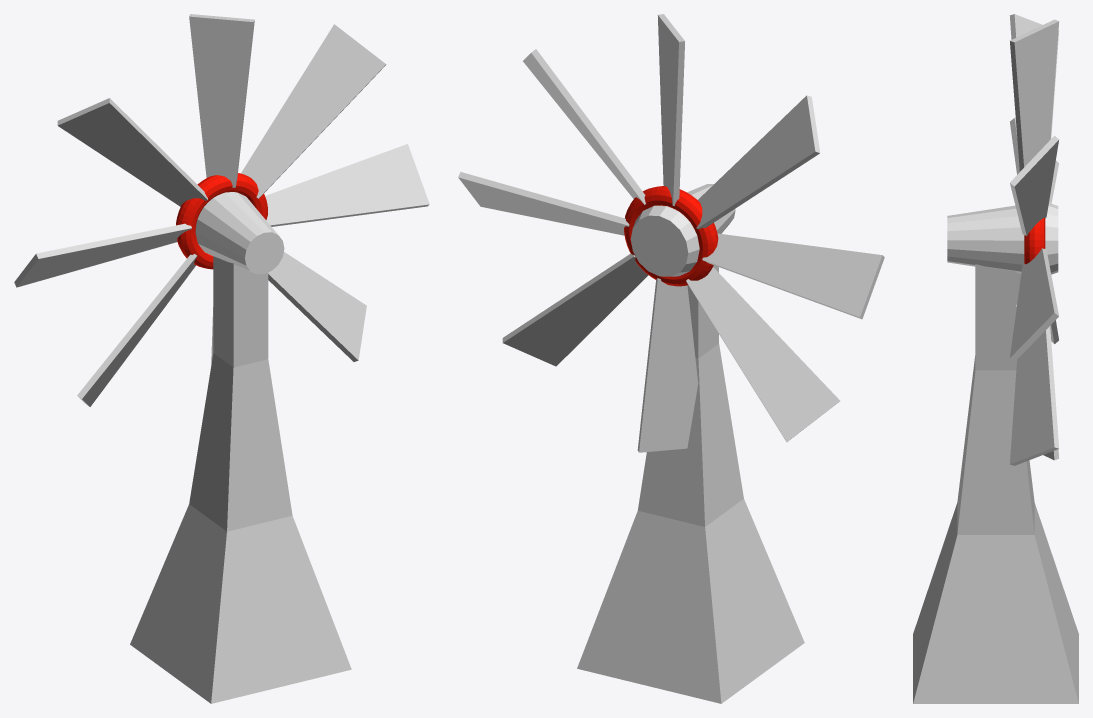
Rendered from WindTurbine.glb.
3 renders of one model, left to right at view 1: azimuth 30°, elevation 25°; view 2: azimuth 150°, elevation 25°; view 3: azimuth 270°, elevation 25°, orthographic. The views are drawn at different scales.
Parts seen in each view (by area): view 1: Cube, Cube.006, Cube.002, Cube.004, Cube.007, Cylinder, Cube.008, Cube.003, Cube.005, Torus; view 2: Cube, Cube.005, Cube.003, Cube.001, Cube.008, Cube.007, Cylinder, Cube.004, Cube.002, Torus, Cube.006; view 3: Cube, Cube.002, Cylinder, Cube.008, Cube.004, Cube.006, Torus, Cube.007, Cube.003.
Part boxes in pixels (left/top/right/bottom): Cube: left=130, top=256, right=351, bottom=703; Cube.006: left=241, top=24, right=386, bottom=198; Cube.002: left=189, top=14, right=254, bottom=187; Cube.004: left=265, top=144, right=429, bottom=226; Cube.007: left=57, top=98, right=207, bottom=206; Cylinder: left=195, top=192, right=284, bottom=274; Cube.008: left=268, top=252, right=366, bottom=361; Cube.003: left=14, top=223, right=191, bottom=287; Cube.005: left=77, top=254, right=197, bottom=406; Torus: left=176, top=173, right=267, bottom=269; Cube: left=577, top=265, right=804, bottom=703; Cube.005: left=686, top=267, right=839, bottom=441; Cube.003: left=702, top=233, right=884, bottom=319; Cube.001: left=637, top=278, right=698, bottom=452; Cube.008: left=502, top=253, right=648, bottom=366; Cube.007: left=696, top=95, right=820, bottom=228; Cylinder: left=630, top=184, right=735, bottom=276; Cube.004: left=458, top=172, right=629, bottom=235; Cube.002: left=657, top=14, right=684, bottom=205; Torus: left=624, top=186, right=718, bottom=286; Cube.006: left=523, top=49, right=645, bottom=204; Cube: left=913, top=264, right=1078, bottom=703; Cube.002: left=1010, top=19, right=1059, bottom=171; Cylinder: left=947, top=203, right=1058, bottom=274; Cube.008: left=1010, top=326, right=1059, bottom=465; Cube.004: left=1010, top=248, right=1058, bottom=361; Cube.006: left=1010, top=135, right=1059, bottom=235; Torus: left=1024, top=218, right=1045, bottom=264; Cube.007: left=1009, top=14, right=1059, bottom=138; Cube.003: left=1010, top=118, right=1058, bottom=203.
Size of the model in its own units: 5.56 by 8.49 by 2.
